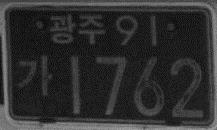1: (68, 52, 82, 116), (148, 13, 159, 48)
2: (169, 56, 204, 119)
6: (132, 54, 166, 116)
7: (93, 54, 127, 116)
9: (115, 13, 138, 46)
가: (16, 53, 53, 97)
광주_O: (49, 13, 105, 45)
